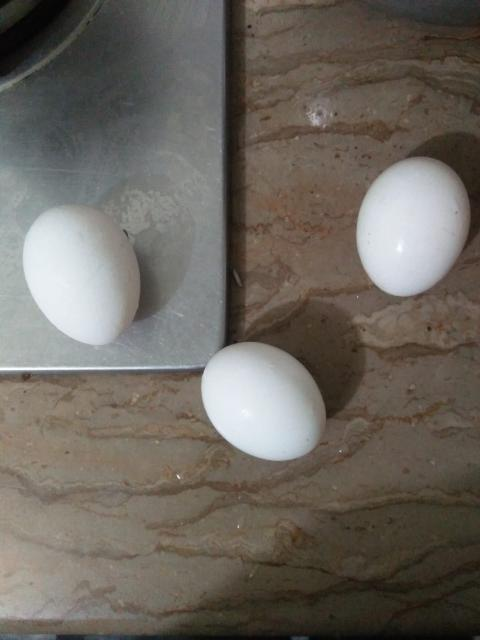Sano: (23, 205, 141, 345), (357, 155, 469, 298), (197, 341, 326, 461)
